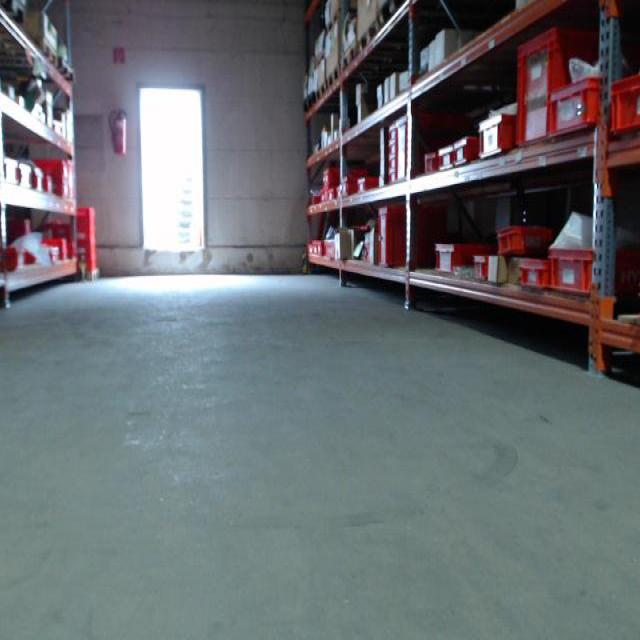pallet: (379, 0, 410, 29), (33, 36, 57, 69), (360, 18, 380, 53), (341, 45, 358, 74), (56, 57, 74, 81), (326, 6, 342, 33), (327, 67, 340, 90), (315, 84, 327, 103)
small_load_carrier: (511, 23, 607, 147), (546, 241, 638, 295), (548, 73, 606, 147), (372, 205, 423, 270), (430, 233, 494, 279), (608, 65, 639, 140), (491, 221, 557, 255), (476, 110, 515, 161), (396, 113, 418, 185), (515, 257, 552, 295), (450, 134, 474, 171), (470, 249, 492, 285), (435, 143, 456, 177), (380, 139, 407, 154), (322, 240, 339, 261), (386, 123, 404, 139), (388, 155, 405, 169), (385, 170, 403, 183)
